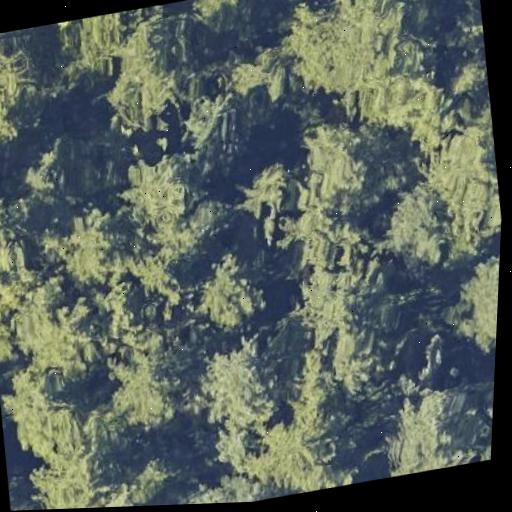tree-top: (276, 0, 410, 101), (103, 13, 197, 135), (377, 376, 488, 478), (231, 402, 341, 498), (195, 333, 290, 443), (97, 337, 197, 437), (376, 173, 470, 276), (183, 246, 276, 344), (116, 142, 210, 237), (14, 286, 107, 381), (43, 198, 131, 295), (294, 113, 383, 208), (0, 359, 75, 470), (443, 252, 500, 359), (0, 31, 48, 155), (227, 152, 301, 232), (178, 0, 261, 33)
